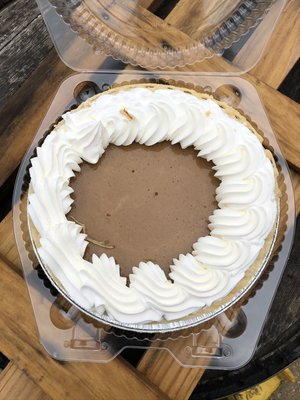curry: (0, 0, 299, 385)
sushi: (8, 70, 292, 338)
